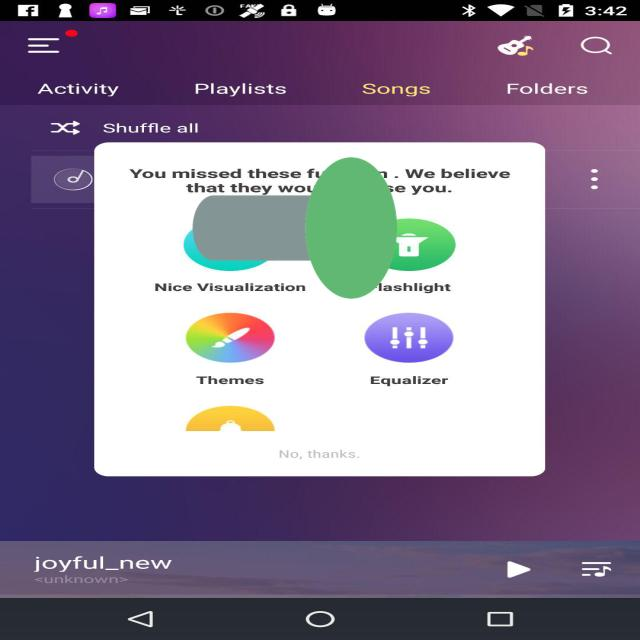social proof: (193, 70, 397, 386)
